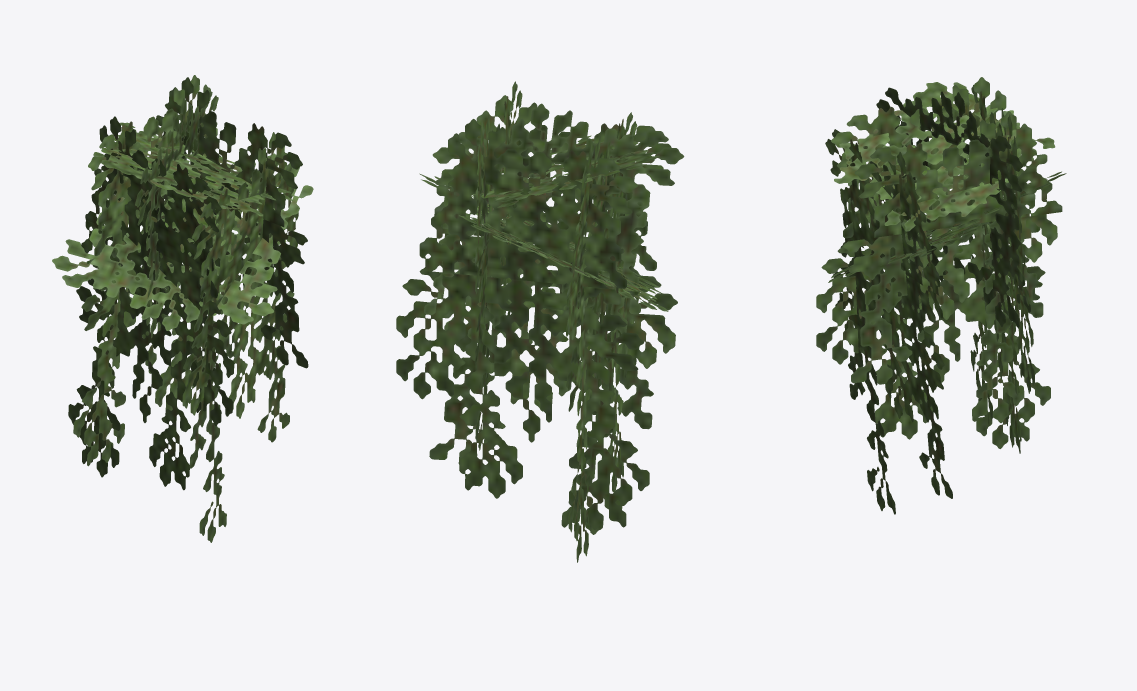
The model's file is birch_leaves.obj.
3 views of the same model, side by side, from view 1: azimuth 30°, elevation 25°; view 2: azimuth 150°, elevation 25°; view 3: azimuth 270°, elevation 25° (orthographic). The views are drawn at different scales.
Parts seen in each view (by area): view 1: north, west, south, east, bottom, top; view 2: east, west, south, north, top, bottom; view 3: south, north, west, top, east, bottom.
Part boxes in pixels (left/top/right/bottom): north: left=68, top=116, right=234, bottom=490; west: left=182, top=132, right=298, bottom=542; south: left=135, top=77, right=308, bottom=372; east: left=73, top=75, right=239, bottom=466; bottom: left=52, top=137, right=313, bottom=330; top: left=93, top=122, right=293, bottom=216; east: left=396, top=119, right=649, bottom=529; west: left=429, top=95, right=677, bottom=534; south: left=424, top=81, right=684, bottom=450; north: left=566, top=112, right=639, bottom=562; top: left=473, top=134, right=659, bottom=207; bottom: left=419, top=173, right=668, bottom=311; south: left=843, top=87, right=1062, bottom=422; north: left=816, top=77, right=1050, bottom=448; west: left=825, top=129, right=952, bottom=514; top: left=834, top=82, right=1055, bottom=231; east: left=968, top=85, right=1034, bottom=453; bottom: left=828, top=171, right=1066, bottom=282.
Bounding box in the file's own units: 2.11 × 3.6 × 2.1.
